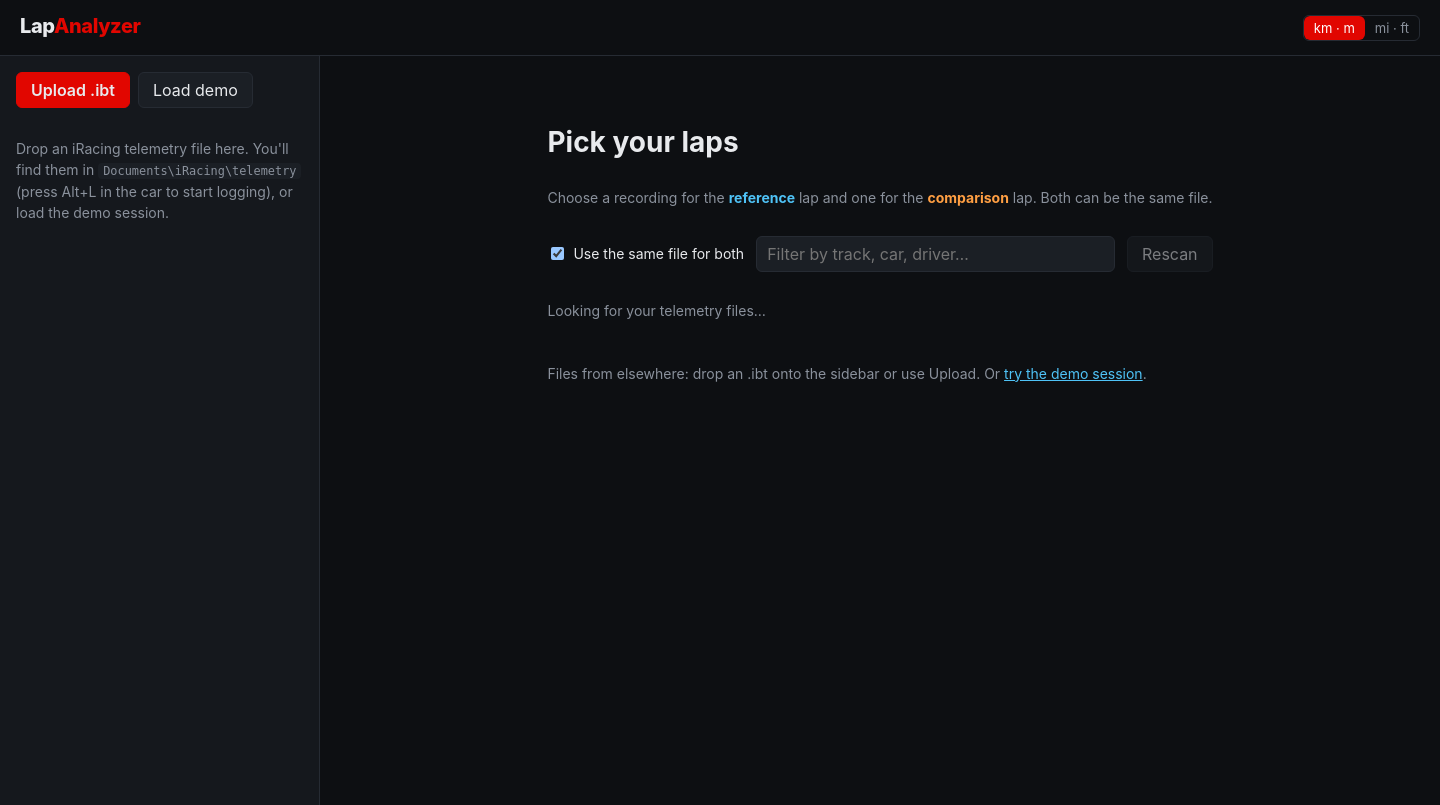
Test case: loads the demo from the picker and shows the analysis
Step 1. Click the button "try the demo session" → (1073, 373), box top-left (1004, 363), bottom-right (1143, 384)
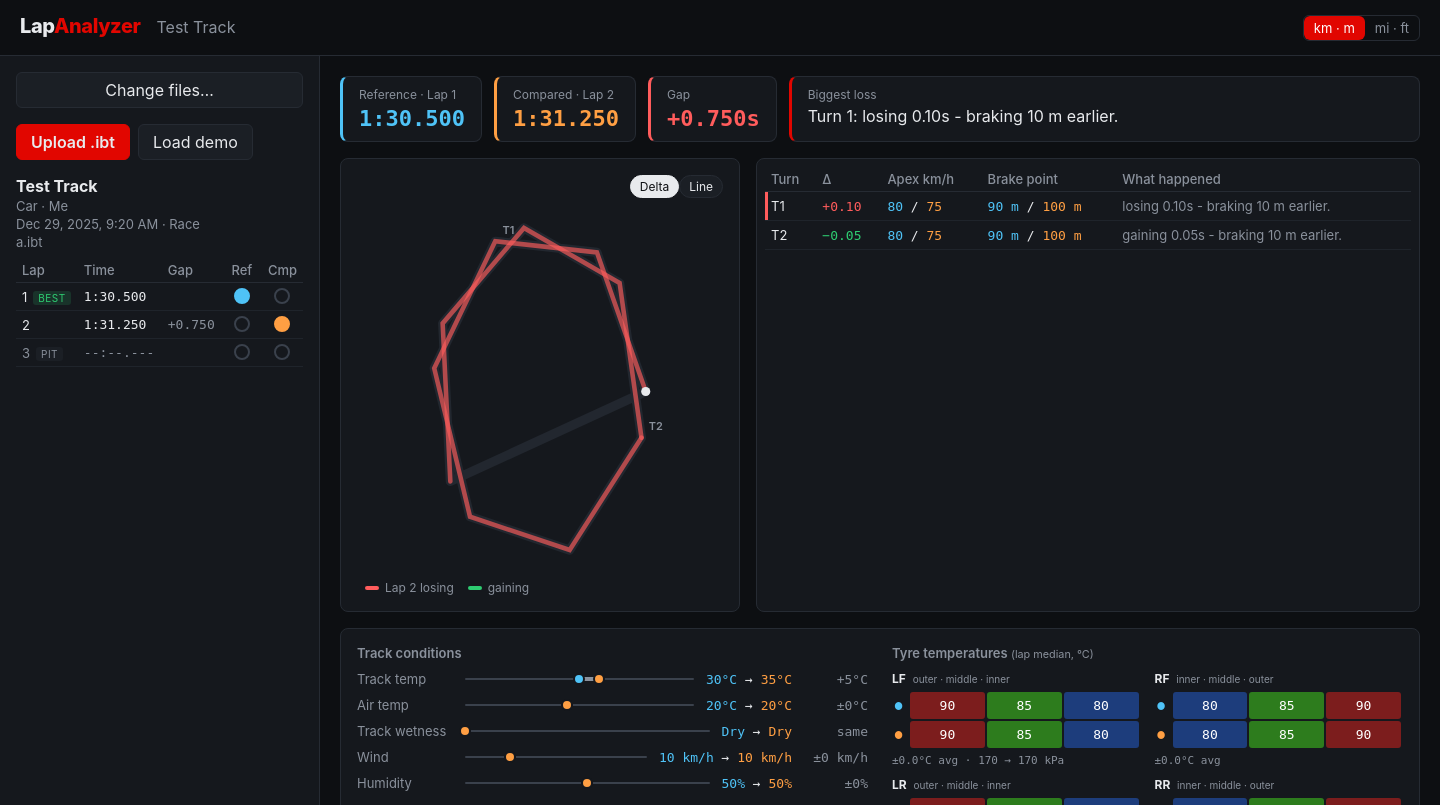
expect the text "Biggest loss" is shown: met, box top-left (808, 87), bottom-right (877, 102)
expect the picture named "track map" is shown: met, box top-left (357, 206), bottom-right (723, 572)
expect the heading "Pick your laps" is gone: met
